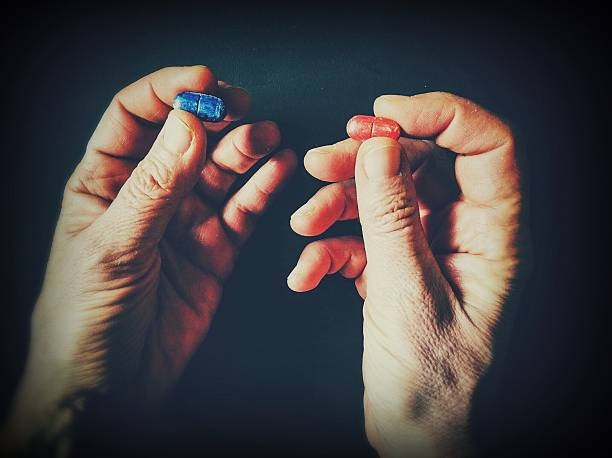pills: (340, 104, 414, 150), (163, 86, 230, 127)
